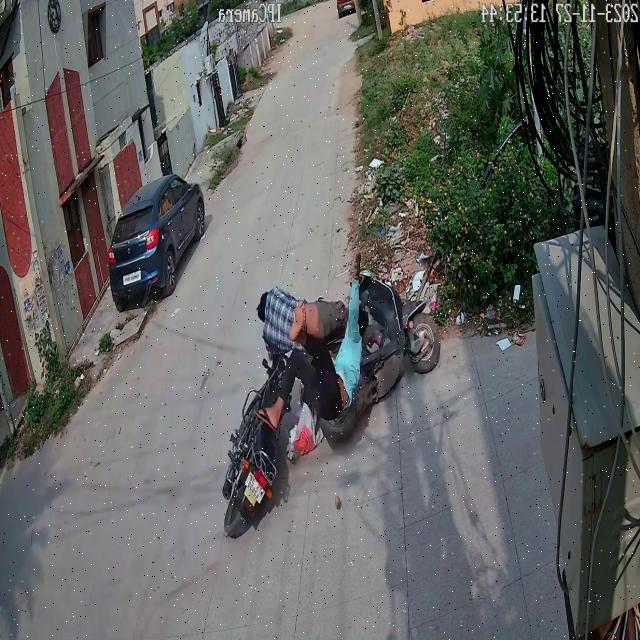accident: (208, 258, 456, 556)
